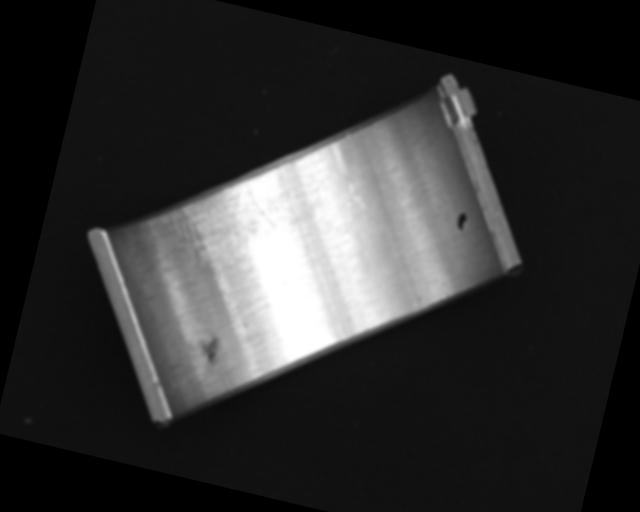blot: (453, 210, 469, 232)
bruise: (197, 329, 223, 364)
nick: (313, 141, 379, 226)
scratch: (141, 151, 306, 286)
